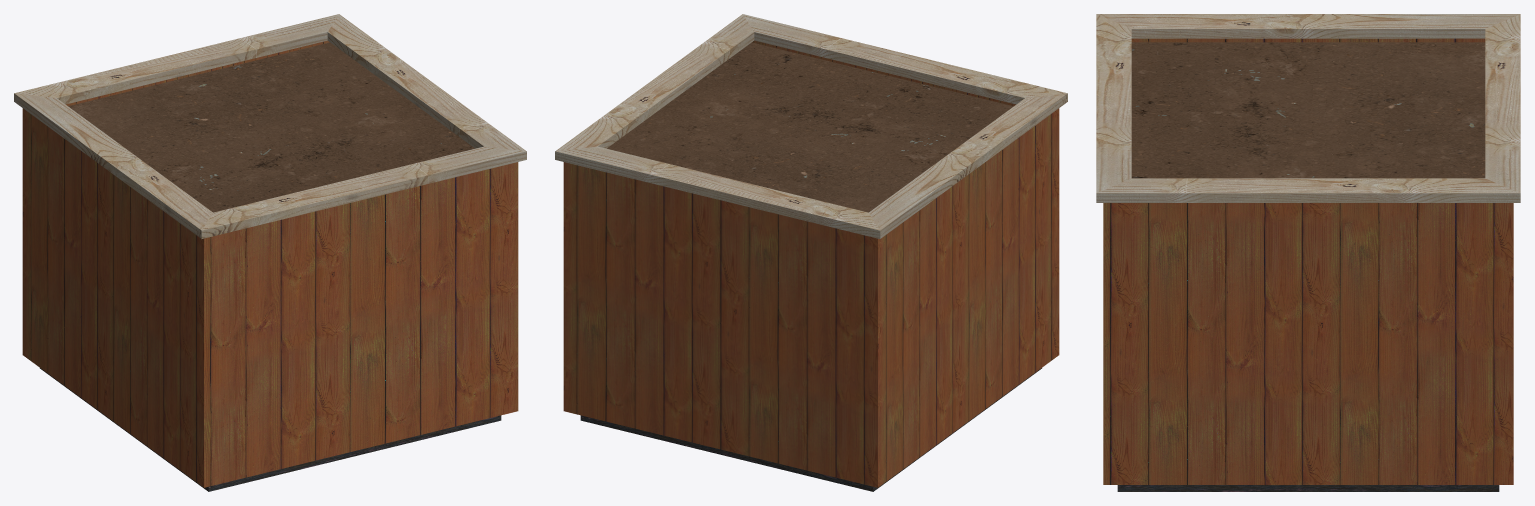
The model's file is GardenPlanter01_1.FBX.
3 views of the same model, side by side, from view 1: azimuth 30°, elevation 25°; view 2: azimuth 150°, elevation 25°; view 3: azimuth 270°, elevation 25° (orthographic). The views are drawn at different scales.
Parts seen in each view (by area): view 1: GardenPlanter01_1; view 2: GardenPlanter01_1; view 3: GardenPlanter01_1.
Part boxes in pixels (box(x1,y1,x2,y2)): GardenPlanter01_1: box(14, 14, 526, 491); GardenPlanter01_1: box(555, 14, 1067, 491); GardenPlanter01_1: box(1096, 14, 1520, 491).
Size of what is drawn, in the model's own units: 0.6 by 0.48 by 0.6.
